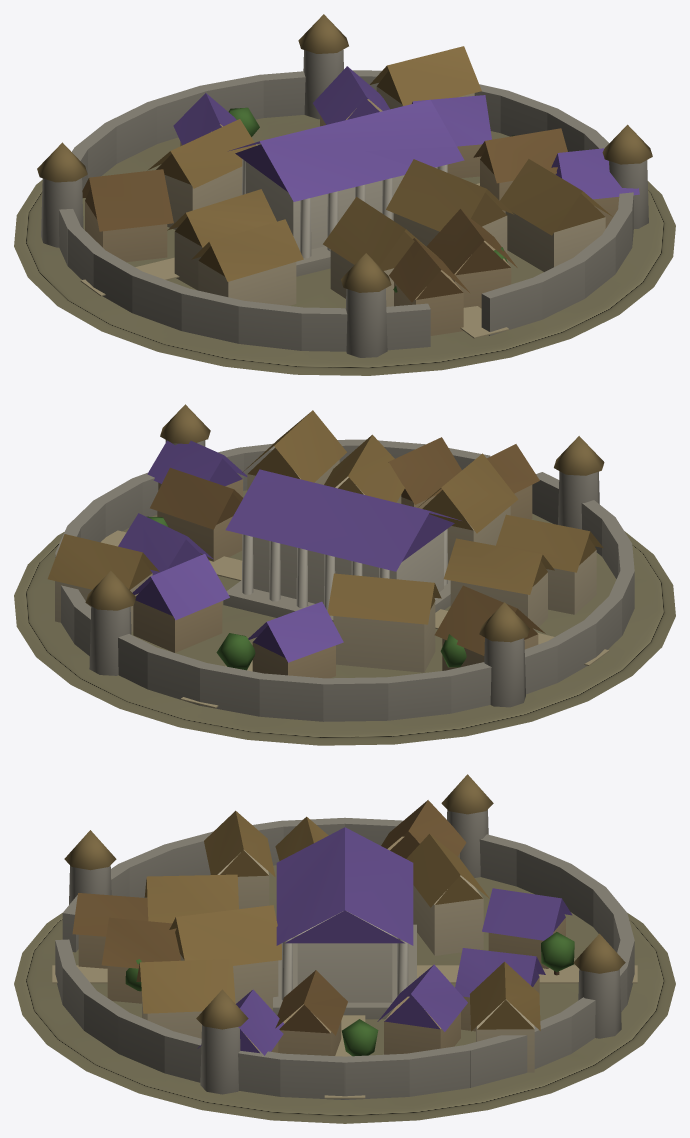
The model's file is settlement_2_2.glb.
3 renders of one model, top to bottom at view 1: azimuth 30°, elevation 25°; view 2: azimuth 150°, elevation 25°; view 3: azimuth 270°, elevation 25°, orthographic.
Parts seen in each view (by area): view 1: part_0; view 2: part_0; view 3: part_0.
Boxes of the visible parts, left/top/right/bottom form: part_0: left=14, top=14, right=675, bottom=375; part_0: left=14, top=404, right=675, bottom=745; part_0: left=14, top=774, right=675, bottom=1123.
Size of the model in its own units: 32.8 by 6.31 by 32.8.
